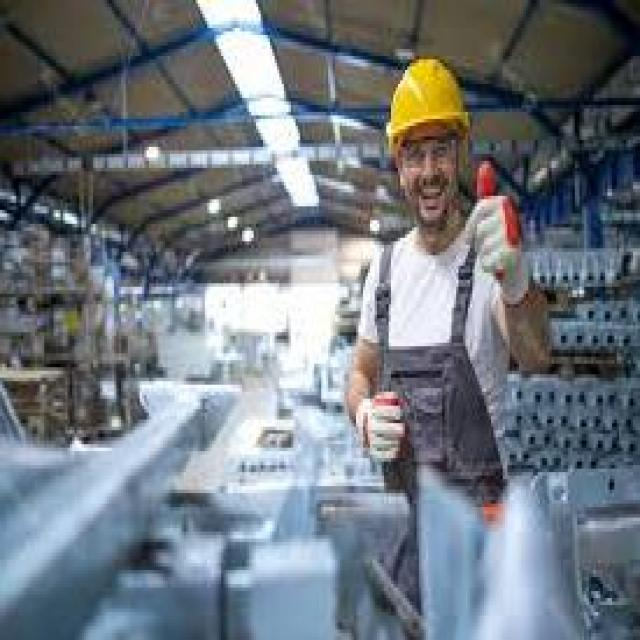Reflective-Jacket: (347, 196, 533, 486)
Safety-Helmet: (379, 49, 477, 154)
